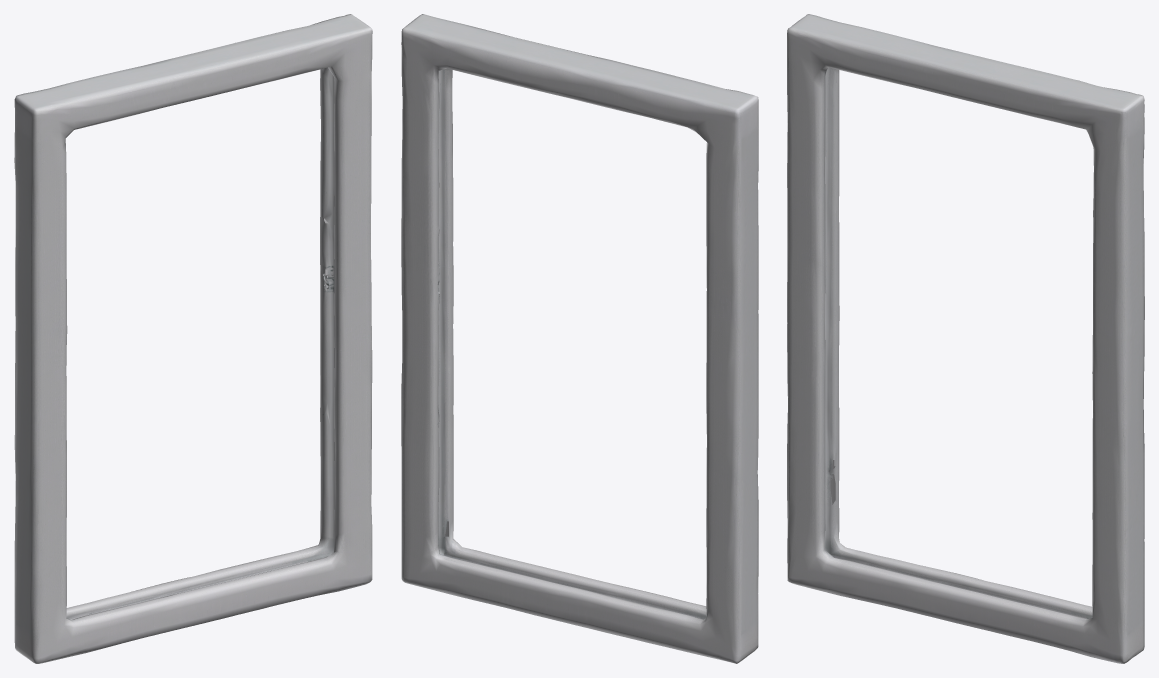
The model's file is house_mod_glass_panel.glb.
3 views of the same model, side by side, from view 1: azimuth 30°, elevation 25°; view 2: azimuth 150°, elevation 25°; view 3: azimuth 330°, elevation 25° (orthographic).
Bounding box in the file's own units: 1.28 × 2 × 0.1423.
1 material, 1 textured.
